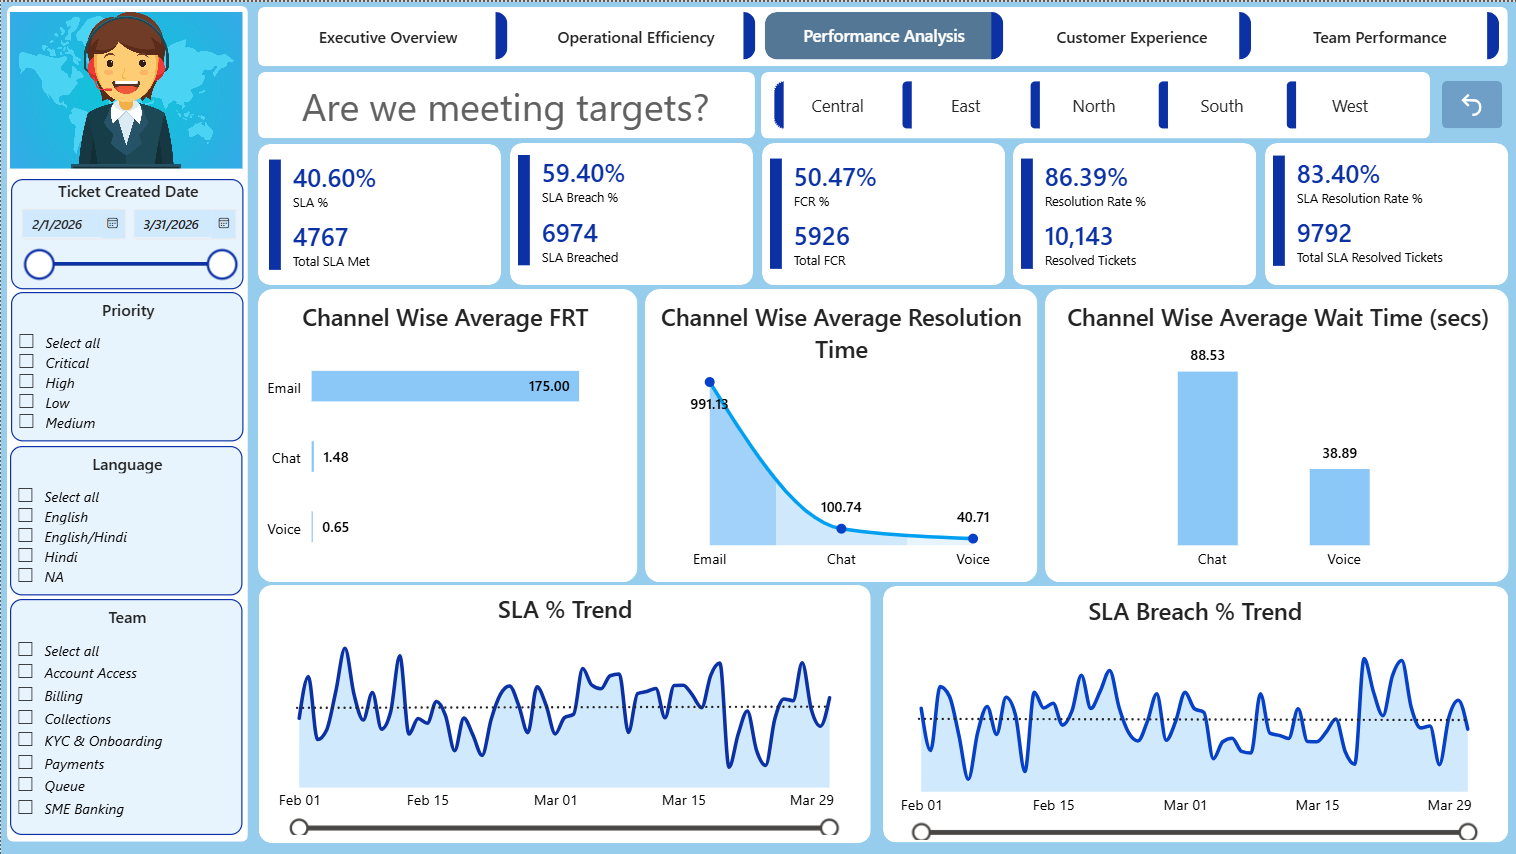

What the dashboard file says about the page in this screenshot:
{"tool":"powerbi","page":{"name":"Performance Analysis","canvas":[1280,720],"ordinal":3},"visuals":[{"type":"shape","box":[5.4,3.6,203.1,704.6],"z":0,"group":"g14"},{"type":"shape","box":[216.7,4.5,1053.7,49.9],"z":0,"group":"g12"},{"type":"shape","box":[216.7,58.9,418.9,55.9],"z":0,"group":"g11"},{"type":"shape","box":[641.1,58.9,564,56.2],"z":0,"group":"g13"},{"type":"shape","box":[429.1,118.9,204.9,119.7],"z":0,"group":"g2"},{"type":"shape","box":[641.2,119.1,205,120],"z":0,"group":"g3"},{"type":"shape","box":[853.5,119.1,205,120],"z":0,"group":"g4"},{"type":"shape","box":[1065.8,119.1,205,120],"z":0,"group":"g5"},{"type":"shape","box":[216.7,119.7,204.9,118.9],"z":0,"group":"g1"},{"type":"group","id":"g1","title":"SLA & Avg Q Score ","box":[216.7,119.7,204.9,118.9],"z":0},{"type":"shape","box":[216.4,241.7,320,247.3],"z":0,"group":"g6"},{"type":"shape","box":[542.7,241.7,330.9,247.3],"z":0,"group":"g7"},{"type":"shape","box":[880,241.7,390.9,247.3],"z":0,"group":"g8"},{"type":"shape","box":[207.7,491.5,535.9,217.6],"z":0,"group":"g9"},{"type":"shape","box":[743.6,492.7,527.3,216.4],"z":0,"group":"g10"},{"type":"pageNavigator","box":[225.8,9,1040.1,40.8],"z":1000,"group":"g12"},{"type":"textbox","box":[220.5,65.1,410.8,42.8],"z":1000,"group":"g11"},{"type":"advancedSlicerVisual","fields":{"Values":["Call_Center_View.Customer_Region"]},"box":[651.1,65.2,543.2,42.6],"z":1000,"group":"g13"},{"type":"group","id":"g2","title":"Total Tickets & AHT","box":[429.1,118.9,204.9,119.7],"z":1000},{"type":"multiRowCard","fields":{"Values":["Measures Table.SLA Resolution Rate %","Measures Table.Total SLA Resolved Tickets"]},"box":[1072.7,126.6,191.4,106.2],"z":1000,"group":"g5"},{"type":"multiRowCard","fields":{"Values":["Measures Table.SLA Breach %","Measures Table.SLA Breached"]},"box":[436,128.9,189.9,99.8],"z":1000,"group":"g2"},{"type":"multiRowCard","fields":{"Values":["Measures Table.FCR %","Measures Table.Total FCR"]},"box":[648.1,129.1,190,100],"z":1000,"group":"g3"},{"type":"multiRowCard","fields":{"Values":["Measures Table.Resolution Rate %","Measures Table.Resolved Tickets"]},"box":[860.4,129.1,190,100],"z":1000,"group":"g4"},{"type":"multiRowCard","fields":{"Values":["Measures Table.SLA %","Measures Table.Total SLA Met"]},"box":[225.9,129.6,189.9,99.1],"z":1000,"group":"g1"},{"type":"barChart","title":"Channel Wise Average FRT","fields":{"Category":["Call_Center_View.Channel"],"Y":["Measures Table.Average FRT"]},"box":[220.9,250.8,307.3,231.8],"z":1000,"group":"g6"},{"type":"lineChart","title":"Channel Wise Average Resolution Time","fields":{"Category":["Call_Center_View.Channel"],"Y":["Measures Table.Average Resolution Time"]},"box":[552.7,250.8,310.9,231.8],"z":1000,"group":"g7"},{"type":"clusteredColumnChart","title":"Channel Wise Average Wait Time (secs)","fields":{"Category":["Call_Center_View.Channel"],"Y":["Measures Table.Average Wait Time (secs)"]},"box":[891.8,250.8,369.4,231.8],"z":1000,"group":"g8"},{"type":"listSlicer","fields":{"Values":["Call_Center_View.Language"]},"box":[8.3,374.5,195.9,126],"z":1000,"group":"g14"},{"type":"lineChart","title":"SLA % Trend","fields":{"Category":["Date_Table.Date.Variation.Date Hierarchy.Year","Date_Table.Date.Variation.Date Hierarchy.Quarter","Date_Table.Date.Variation.Date Hierarchy.Month","Date_Table.Date.Variation.Date Hierarchy.Day"],"Y":["Measures Table.SLA %"]},"box":[223.4,497.4,504.2,204.9],"z":1000,"group":"g9"},{"type":"lineChart","title":"SLA Breach % Trend","fields":{"Category":["Date_Table.Date.Variation.Date Hierarchy.Year","Date_Table.Date.Variation.Date Hierarchy.Quarter","Date_Table.Date.Variation.Date Hierarchy.Month","Date_Table.Date.Variation.Date Hierarchy.Day"],"Y":["Measures Table.SLA Breach %"]},"box":[747.6,499.3,517.8,206.8],"z":1000,"group":"g10"},{"type":"group","id":"g3","title":"Handled & Resolved Tickets","box":[641.2,119.1,205,120],"z":2000},{"type":"slicer","title":"Ticket Created Date","fields":{"Values":["Call_Center_View.Created Date"]},"box":[8.4,149.2,195.6,92.7],"z":2000,"group":"g14"},{"type":"group","id":"g4","title":"Pending & Abandoned Tickets","box":[853.5,119.1,205,120],"z":3000},{"type":"listSlicer","fields":{"Values":["Call_Center_View.Team"]},"box":[8.3,503.6,195.9,198.6],"z":3000,"group":"g14"},{"type":"group","id":"g5","title":"Open & Reopened Tickets","box":[1065.8,119.1,205,120],"z":4000},{"type":"listSlicer","fields":{"Values":["Call_Center_View.Priority"]},"box":[8.5,245,195.6,126.5],"z":4000,"group":"g14"},{"type":"image","box":[8.1,9,195.9,132.4],"z":5000,"group":"g14"},{"type":"group","id":"g6","title":"Channel Wise SLA","box":[216.4,241.7,320,247.3],"z":5000},{"type":"group","id":"g7","title":"Channel Wise AHT","box":[542.7,241.7,330.9,247.3],"z":6000},{"type":"group","id":"g8","title":"Channel Wise Tickets","box":[880,241.7,390.9,247.3],"z":7000},{"type":"group","id":"g9","title":"Tickets Inflow Trend","box":[207.7,491.5,535.9,217.6],"z":8000},{"type":"group","id":"g10","title":"Service Level Trend","box":[743.6,492.7,527.3,216.4],"z":9000},{"type":"group","id":"g11","title":"What's happening ?","box":[216.7,58.9,418.9,55.3],"z":10000},{"type":"group","id":"g12","title":"Page Navigator","box":[216.7,4.5,1053.7,49.9],"z":11000},{"type":"group","id":"g13","title":"Customer Region","box":[641.1,58.9,564,56.2],"z":12000},{"type":"actionButton","title":"Reset All Filters","box":[1215.1,66.2,50.8,39.9],"z":13000},{"type":"group","id":"g14","title":"Left Filter Pane","box":[5.4,3.6,203.1,704.6],"z":14000}]}

Visuals, with their boxes in screenshot pixels (x1, y1, x2, y2), scaled from the page's 1280x720 canvas onto the 1516x854 screenshot:
shape: bbox=[6, 4, 247, 840]
shape: bbox=[257, 5, 1505, 65]
shape: bbox=[257, 70, 753, 136]
shape: bbox=[759, 70, 1427, 137]
shape: bbox=[508, 141, 751, 283]
shape: bbox=[759, 141, 1002, 284]
shape: bbox=[1011, 141, 1254, 284]
shape: bbox=[1262, 141, 1505, 284]
shape: bbox=[257, 142, 499, 283]
"SLA & Avg Q Score " group: bbox=[257, 142, 499, 283]
shape: bbox=[256, 287, 635, 580]
shape: bbox=[643, 287, 1035, 580]
shape: bbox=[1042, 287, 1505, 580]
shape: bbox=[246, 583, 881, 841]
shape: bbox=[881, 584, 1505, 841]
pageNavigator: bbox=[267, 11, 1499, 59]
textbox: bbox=[261, 77, 748, 128]
advancedSlicerVisual - Call_Center_View.Customer_Region: bbox=[771, 77, 1414, 128]
"Total Tickets & AHT" group: bbox=[508, 141, 751, 283]
multiRowCard - Measures Table.SLA Resolution Rate % x Measures Table.Total SLA Resolved Tickets: bbox=[1270, 150, 1497, 276]
multiRowCard - Measures Table.SLA Breach % x Measures Table.SLA Breached: bbox=[516, 153, 741, 271]
multiRowCard - Measures Table.FCR % x Measures Table.Total FCR: bbox=[768, 153, 993, 272]
multiRowCard - Measures Table.Resolution Rate % x Measures Table.Resolved Tickets: bbox=[1019, 153, 1244, 272]
multiRowCard - Measures Table.SLA % x Measures Table.Total SLA Met: bbox=[268, 154, 492, 271]
"Channel Wise Average FRT" barChart: bbox=[262, 297, 626, 572]
"Channel Wise Average Resolution Time" lineChart: bbox=[655, 297, 1023, 572]
"Channel Wise Average Wait Time (secs)" clusteredColumnChart: bbox=[1056, 297, 1494, 572]
listSlicer - Call_Center_View.Language: bbox=[10, 444, 242, 594]
"SLA % Trend" lineChart: bbox=[265, 590, 862, 833]
"SLA Breach % Trend" lineChart: bbox=[885, 592, 1499, 838]
"Handled & Resolved Tickets" group: bbox=[759, 141, 1002, 284]
"Ticket Created Date" slicer: bbox=[10, 177, 242, 287]
"Pending & Abandoned Tickets" group: bbox=[1011, 141, 1254, 284]
listSlicer - Call_Center_View.Team: bbox=[10, 597, 242, 833]
"Open & Reopened Tickets" group: bbox=[1262, 141, 1505, 284]
listSlicer - Call_Center_View.Priority: bbox=[10, 291, 242, 441]
image: bbox=[10, 11, 242, 168]
"Channel Wise SLA" group: bbox=[256, 287, 635, 580]
"Channel Wise AHT" group: bbox=[643, 287, 1035, 580]
"Channel Wise Tickets" group: bbox=[1042, 287, 1505, 580]
"Tickets Inflow Trend" group: bbox=[246, 583, 881, 841]
"Service Level Trend" group: bbox=[881, 584, 1505, 841]
"What's happening ?" group: bbox=[257, 70, 753, 135]
"Page Navigator" group: bbox=[257, 5, 1505, 65]
"Customer Region" group: bbox=[759, 70, 1427, 137]
"Reset All Filters" actionButton: bbox=[1439, 79, 1499, 126]
"Left Filter Pane" group: bbox=[6, 4, 247, 840]
